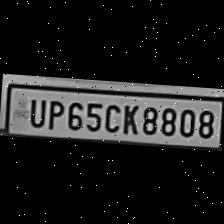0: (174, 104, 196, 138)
5: (80, 98, 102, 132)
6: (62, 98, 83, 132)
8: (138, 102, 160, 135), (193, 106, 214, 140), (156, 103, 176, 137)
C: (100, 100, 119, 134)
K: (118, 101, 139, 135)
P: (44, 96, 64, 130)
U: (24, 94, 46, 127)
